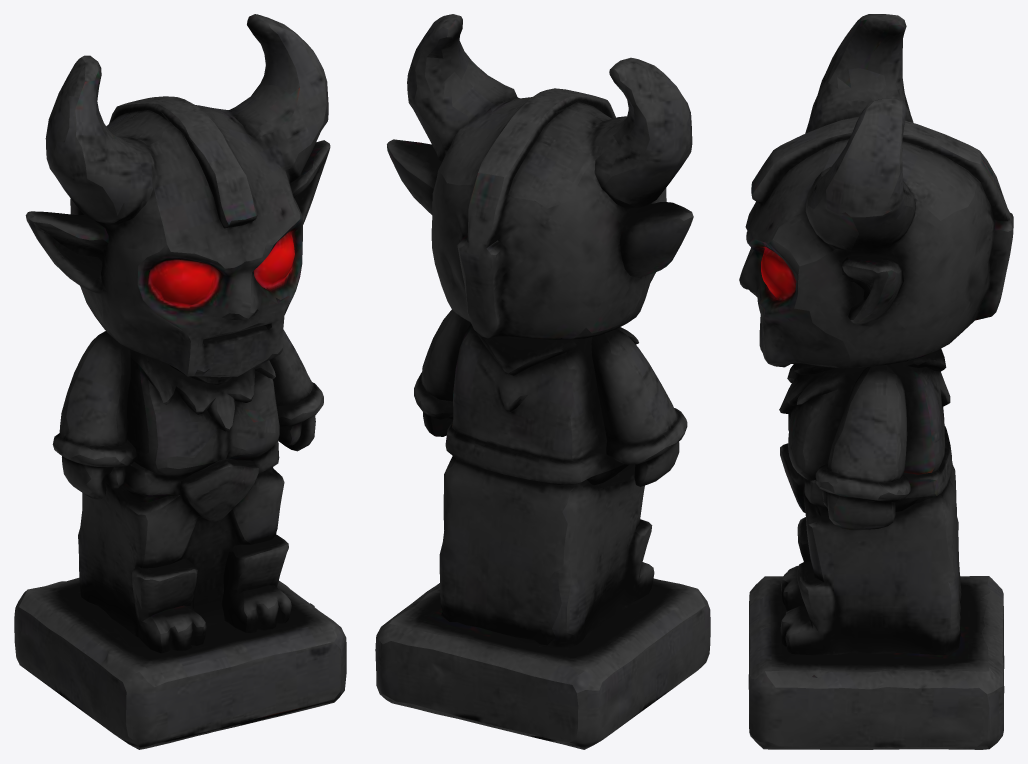
Rendered from lg-demon-statue.glb.
3 views of the same model, side by side, from view 1: azimuth 30°, elevation 25°; view 2: azimuth 150°, elevation 25°; view 3: azimuth 270°, elevation 25° (orthographic).
Parts seen in each view (by area): view 1: geometry_0; view 2: geometry_0; view 3: geometry_0.
Boxes of the visible parts, x1,y1,x2,y2 form: geometry_0: [14, 14, 346, 749]; geometry_0: [375, 14, 710, 749]; geometry_0: [739, 14, 1013, 749].
Bounding box in the file's own units: 0.491 × 1 × 0.386.
Materials: 1 (1 with a texture image).
